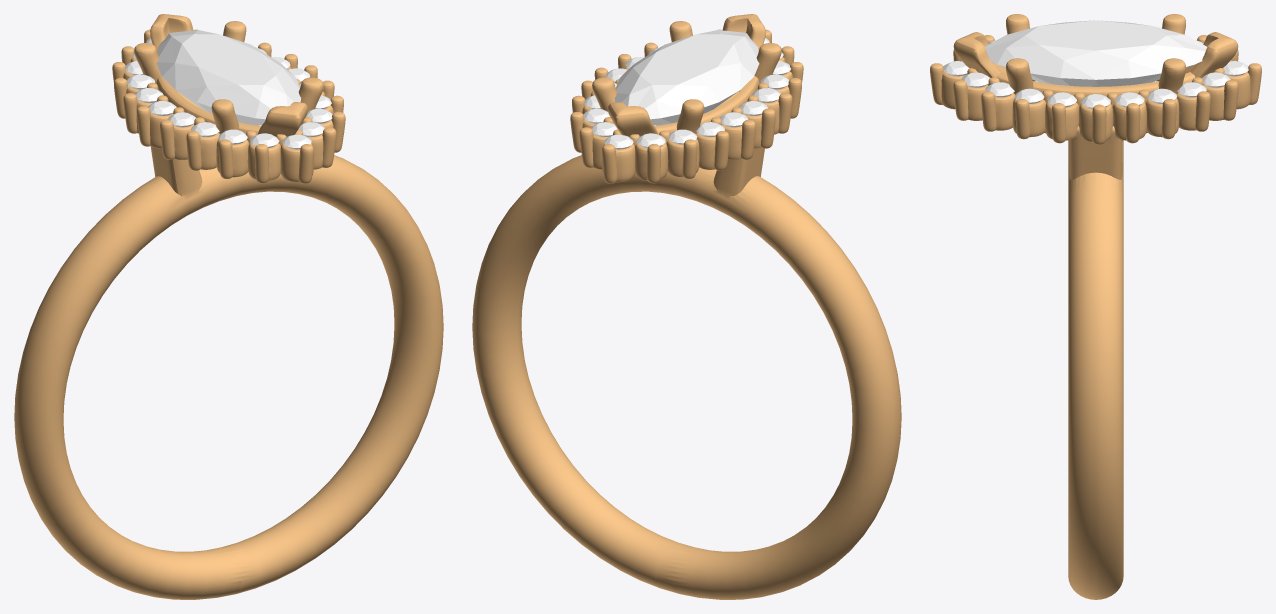
The picture shows the model from 3 angles, left to right: view 1: azimuth 30°, elevation 25°; view 2: azimuth 150°, elevation 25°; view 3: azimuth 270°, elevation 25°; orthographic projection.
Size of the model in its own units: 2.34 by 2.83 by 1.57.
